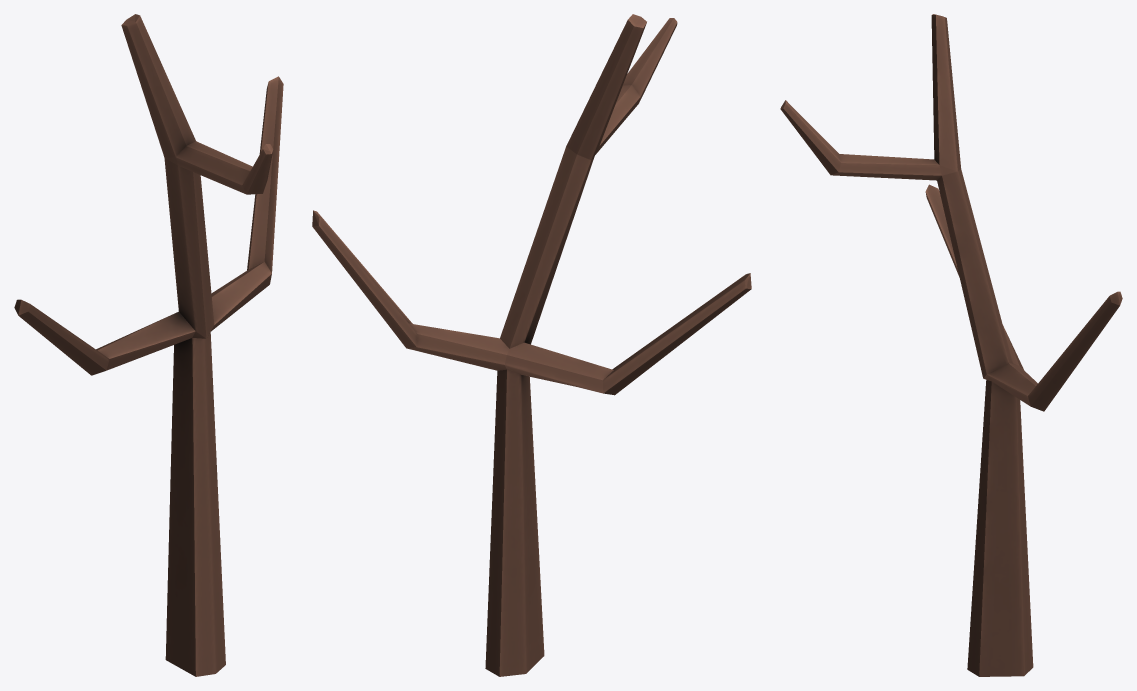
The model's file is Tree_4.fbx.
The picture shows the model from 3 angles, left to right: view 1: azimuth 30°, elevation 25°; view 2: azimuth 150°, elevation 25°; view 3: azimuth 270°, elevation 25°; orthographic projection. The views are drawn at different scales.
Parts seen in each view (by area): view 1: Tree_4; view 2: Tree_4; view 3: Tree_4.
Part boxes in pixels (bbox=[...]): Tree_4: bbox=[14, 14, 283, 676]; Tree_4: bbox=[312, 14, 751, 676]; Tree_4: bbox=[780, 14, 1122, 676].
Bounding box in the file's own units: 53.96 × 49.35 × 97.72.
Materials: 1 (1 with a texture image).
